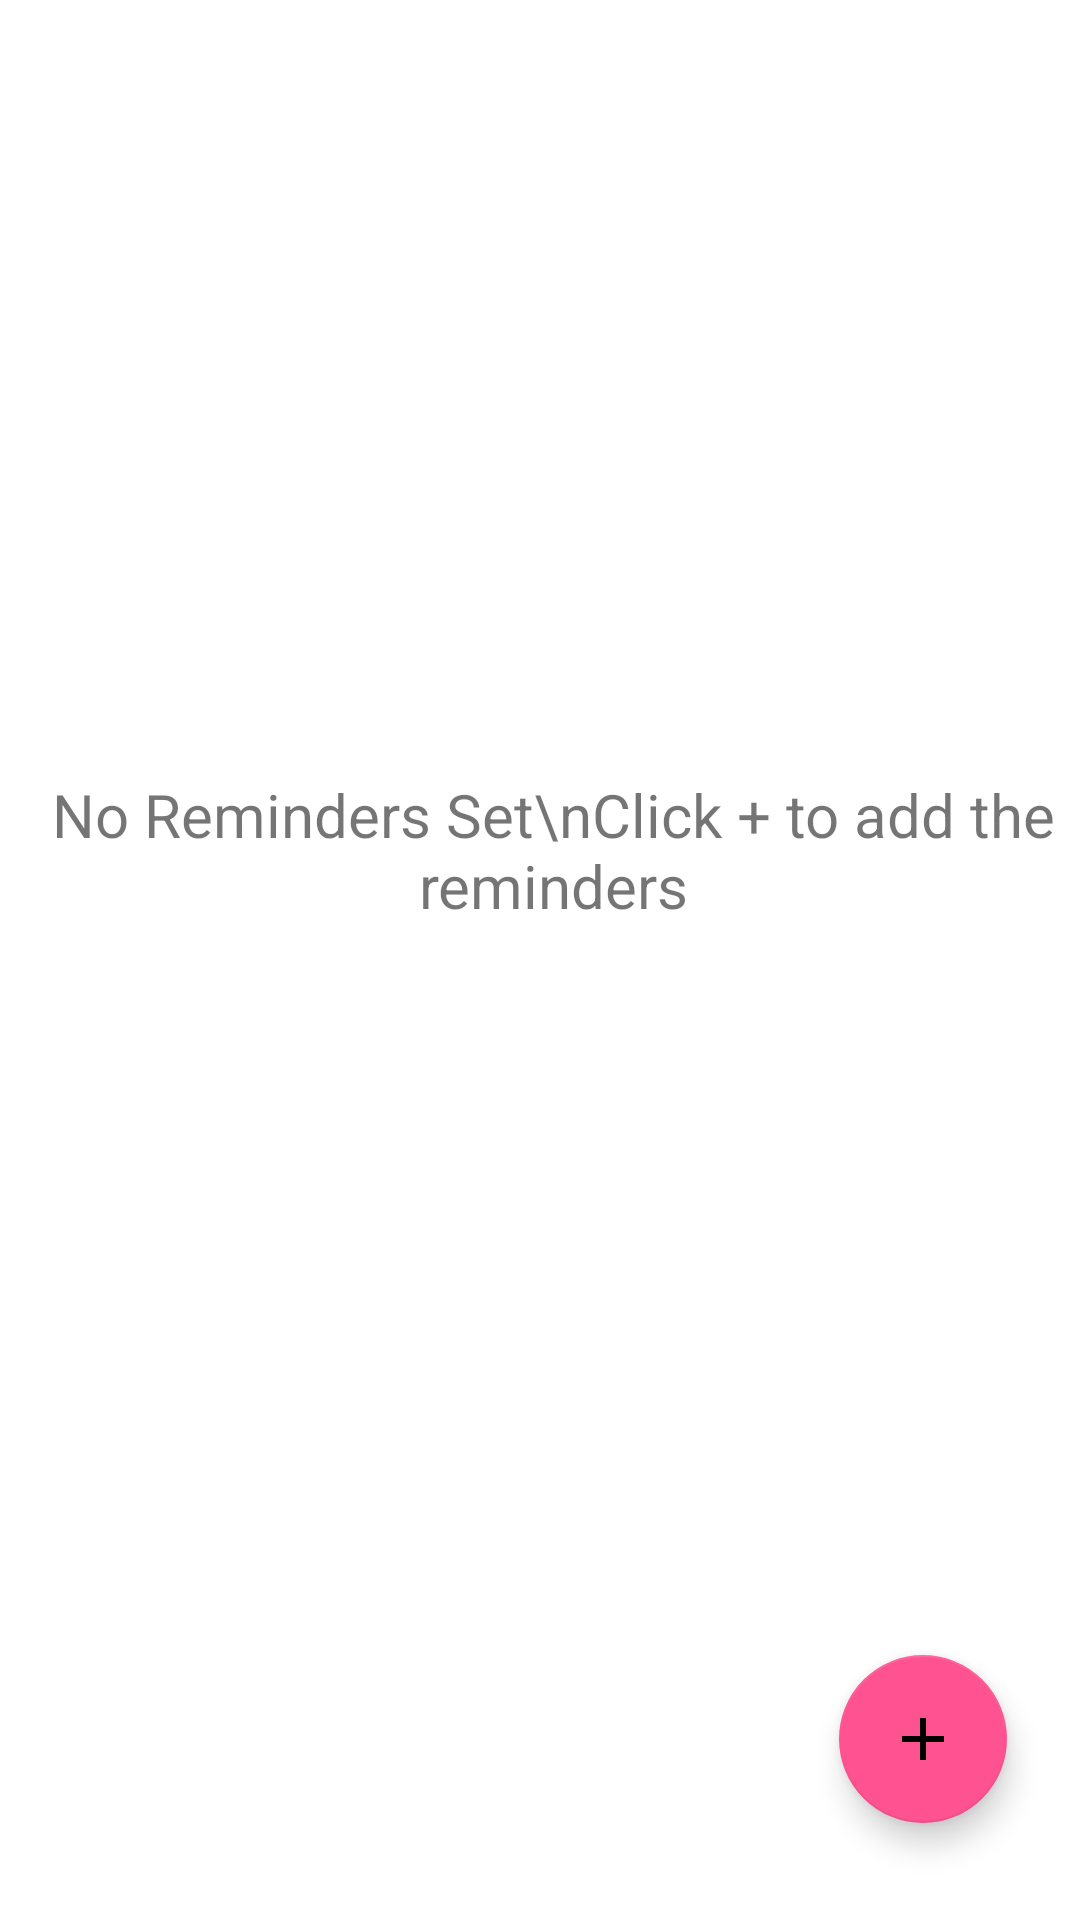

Screen size 1080 × 1920. Icon name, then its center in pixels as (x=x, y=y):
add: (x=923, y=1739)
